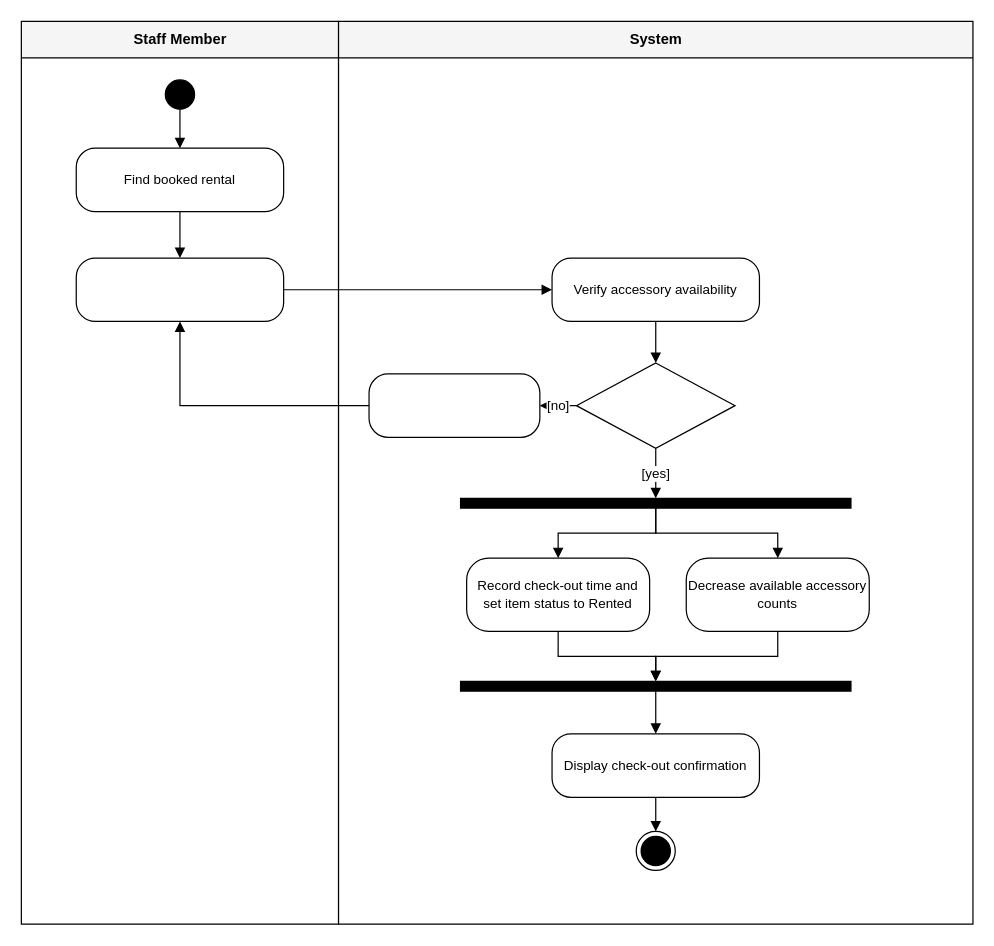
Some shapes in this 994 by 946 pixel diagram are drawn without their labels. The shapes that lost their labels are listed below. From the top down, each one's centre as x and y in pixels, then its label:
At pixel 179 289: "Select accessories to attach (optional)".
At pixel 454 405: "Display shortage message".
At pixel 655 405: "Enough stock?".
